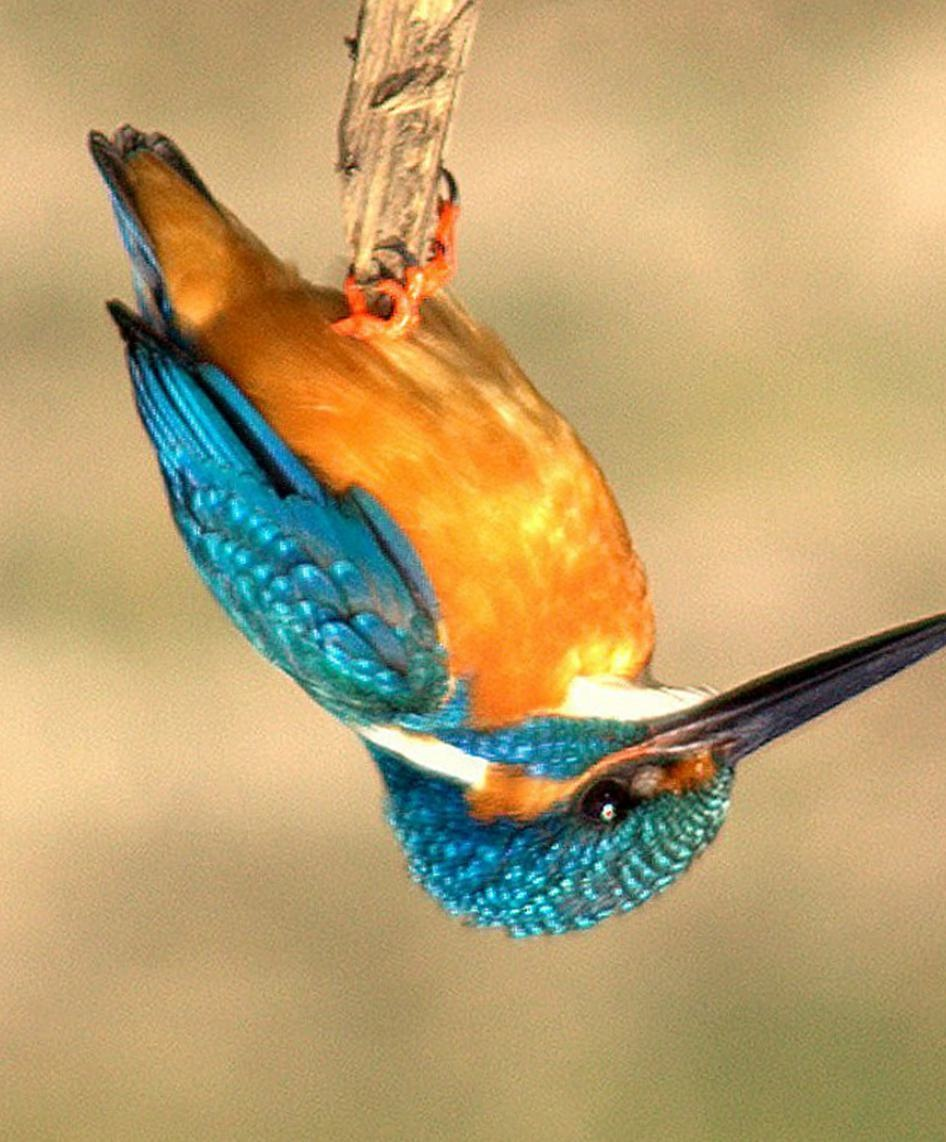kingfisher: (74, 140, 946, 951)
